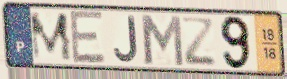9: (219, 15, 254, 72)
E: (67, 8, 107, 66)
J: (112, 14, 139, 64)
M: (138, 12, 186, 68), (27, 11, 75, 62)
Z: (179, 15, 217, 68)
